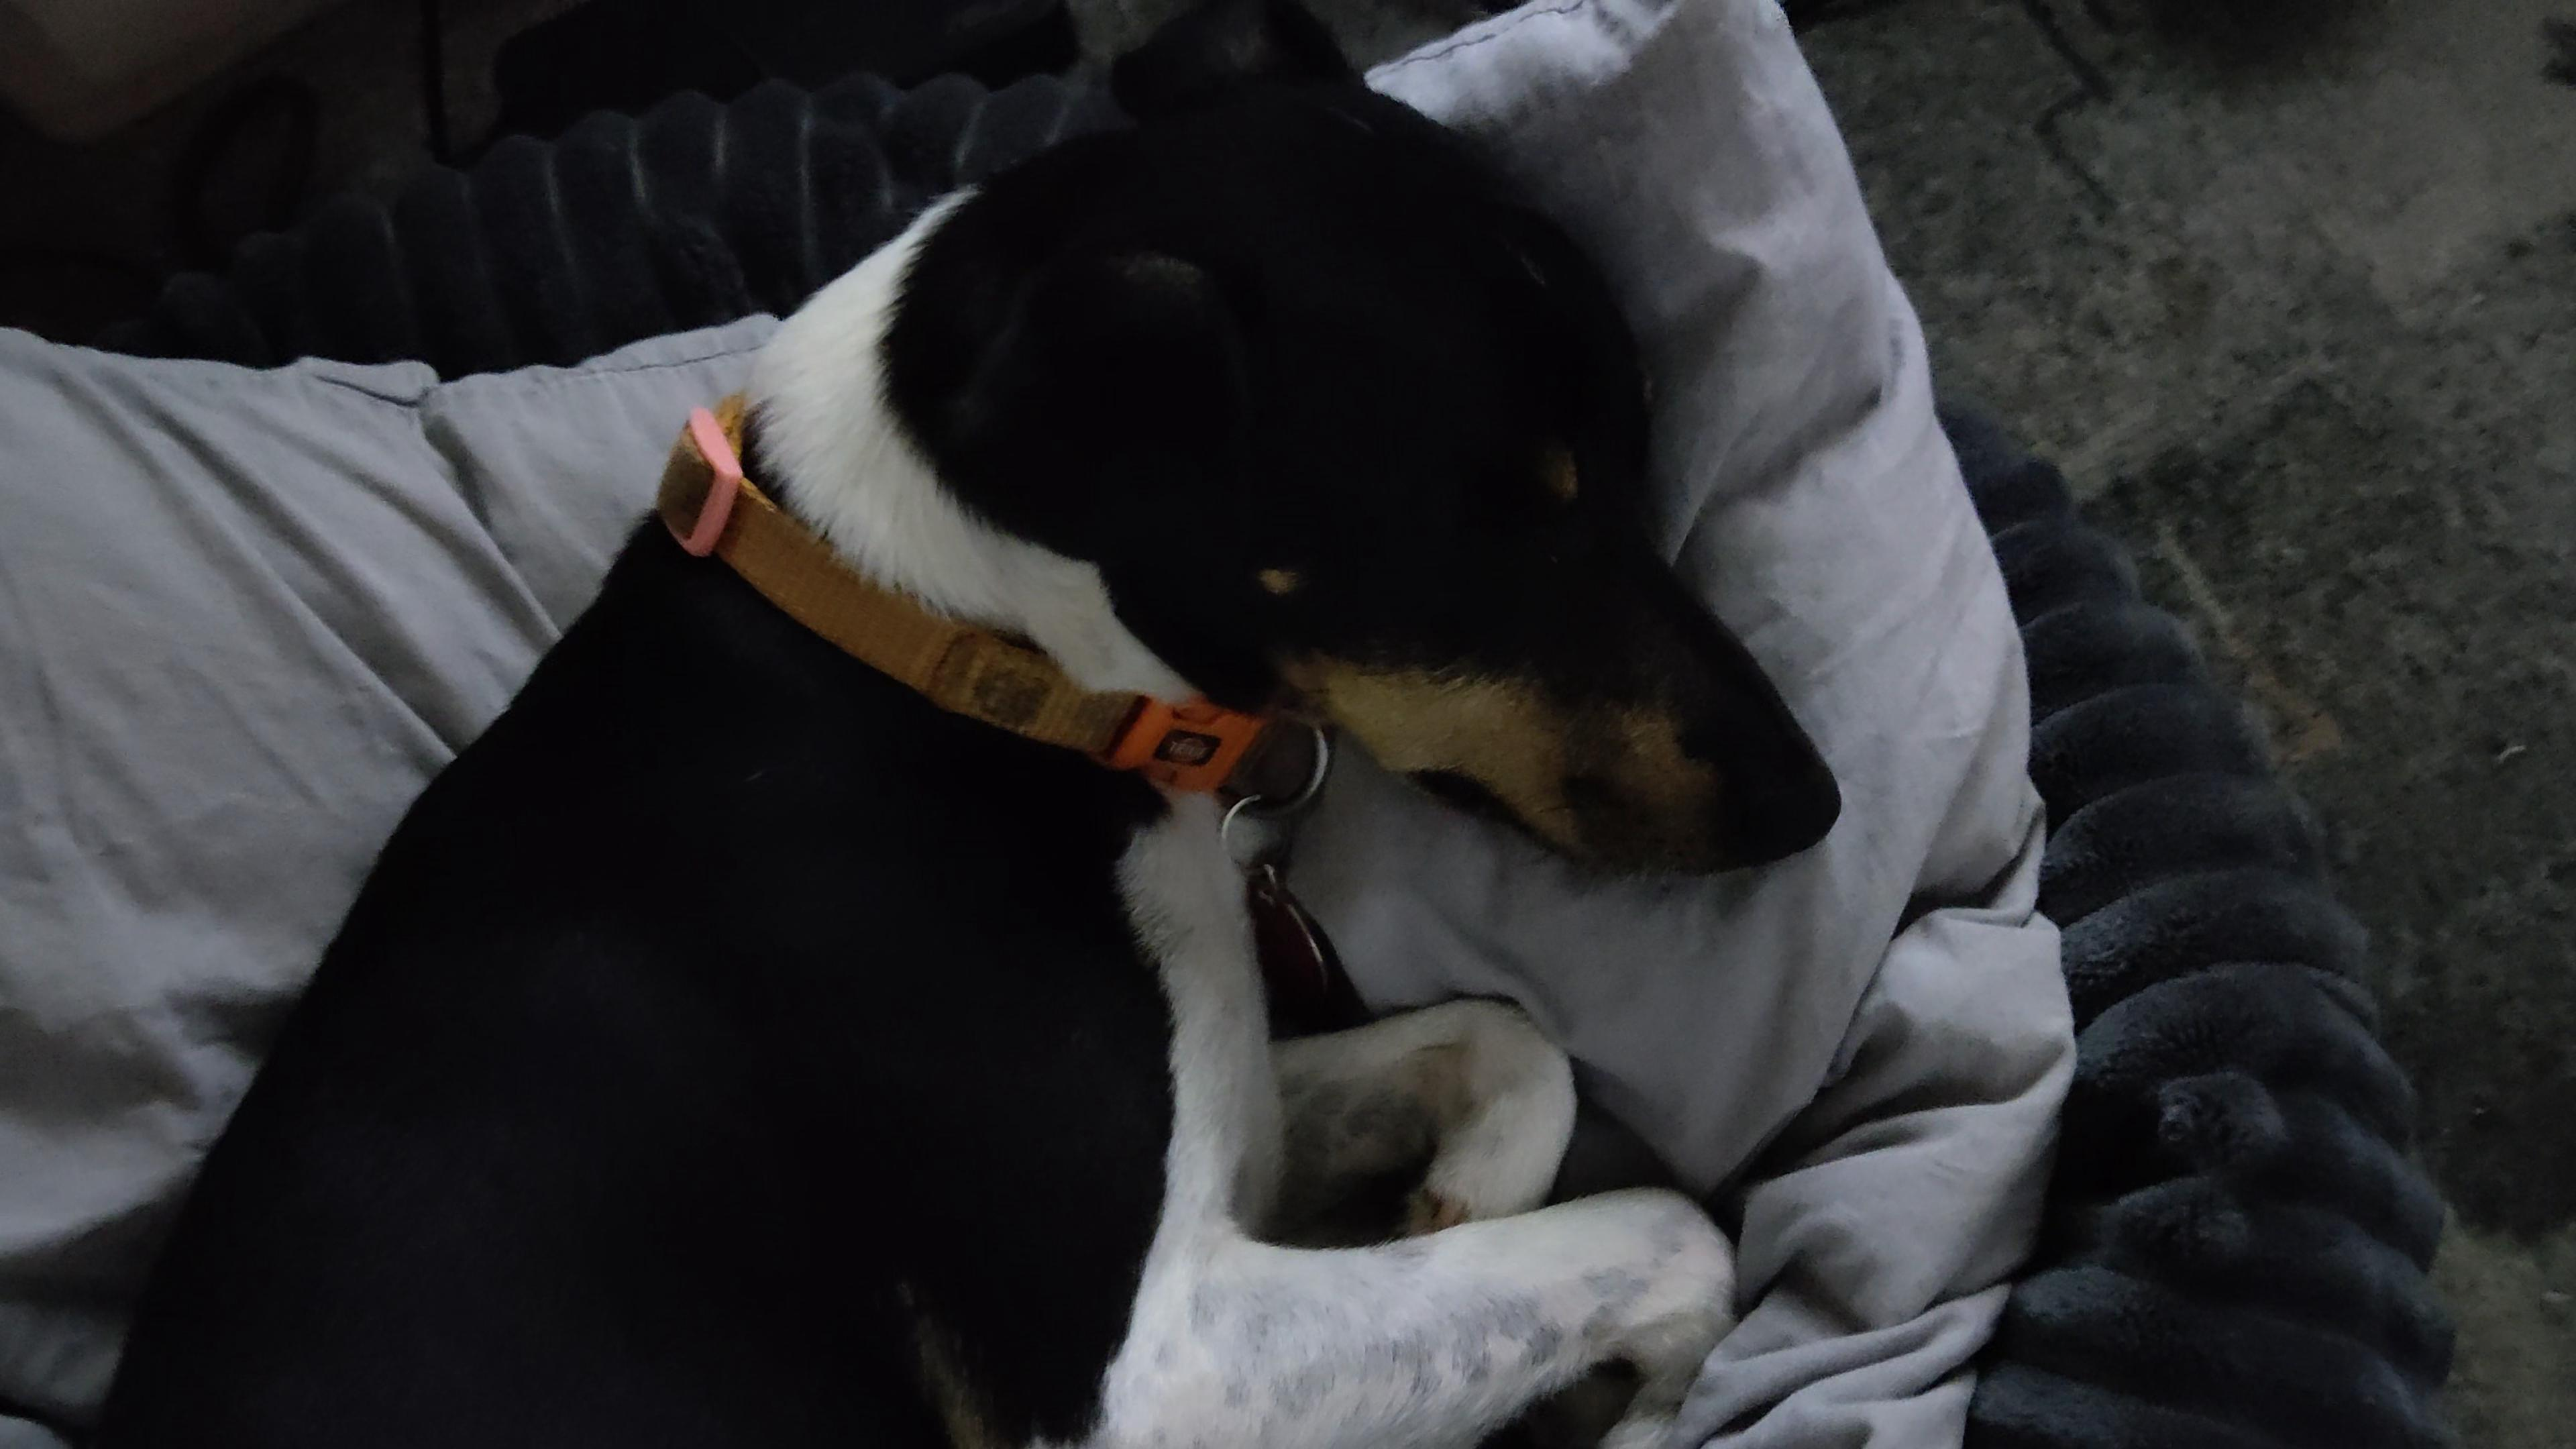Dog: (62, 0, 1851, 1449)
